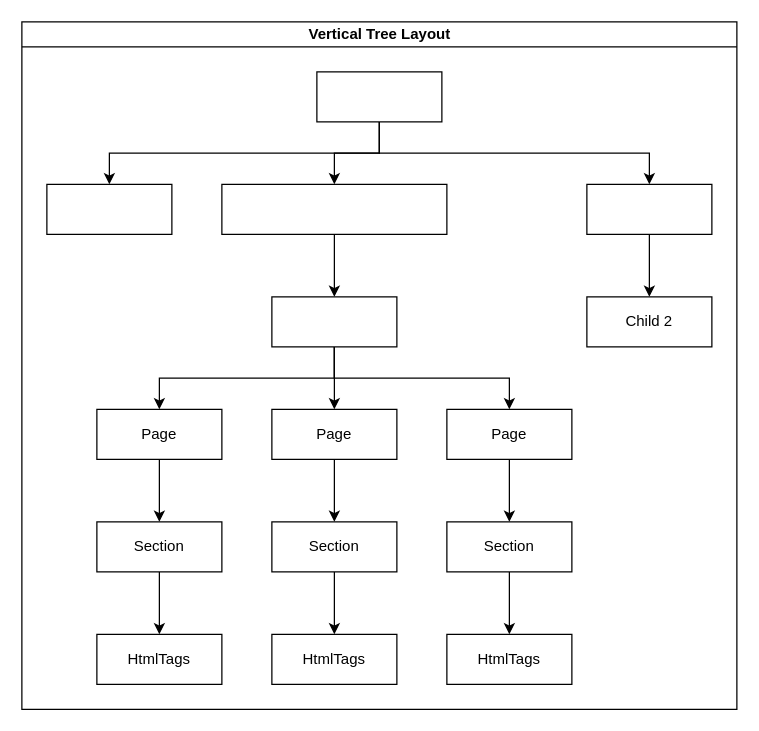
The diagram is 759 pixels wide and 731 high, and some of its shapes have lost their labels. The centre of each missing label's shape, as x and y in pixels:
Form: the point at 334,321
Left Pane: the point at 109,208
Main-Container {props.form = form}: the point at 334,208
Right Pane: the point at 649,208
Root: the point at 379,96
